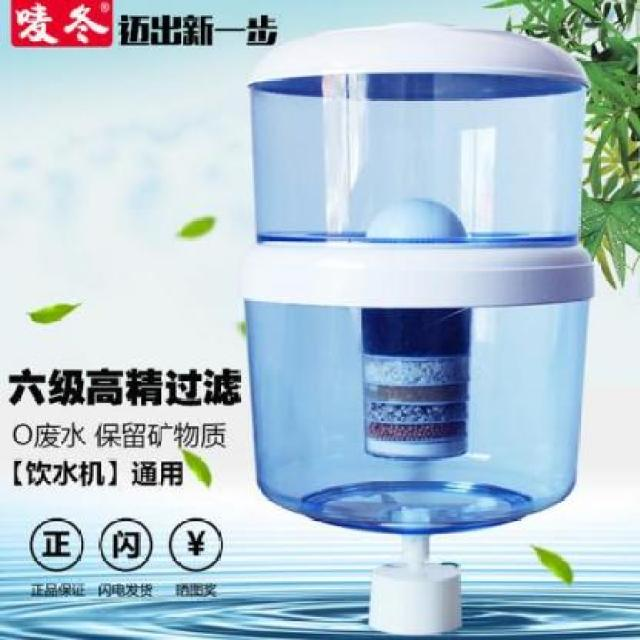coolerbottle: (237, 20, 598, 541)
